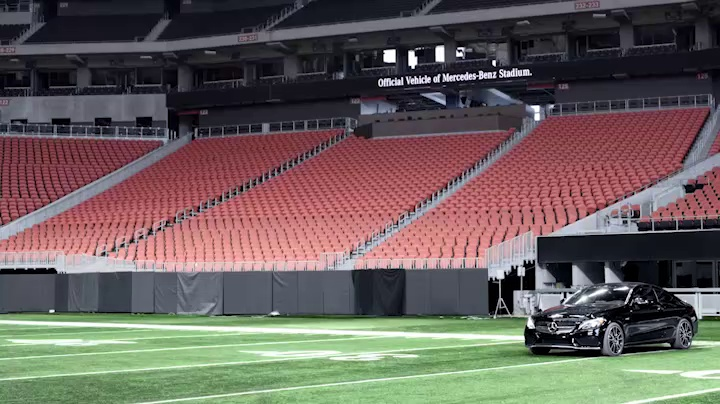amg: (521, 282, 698, 358)
